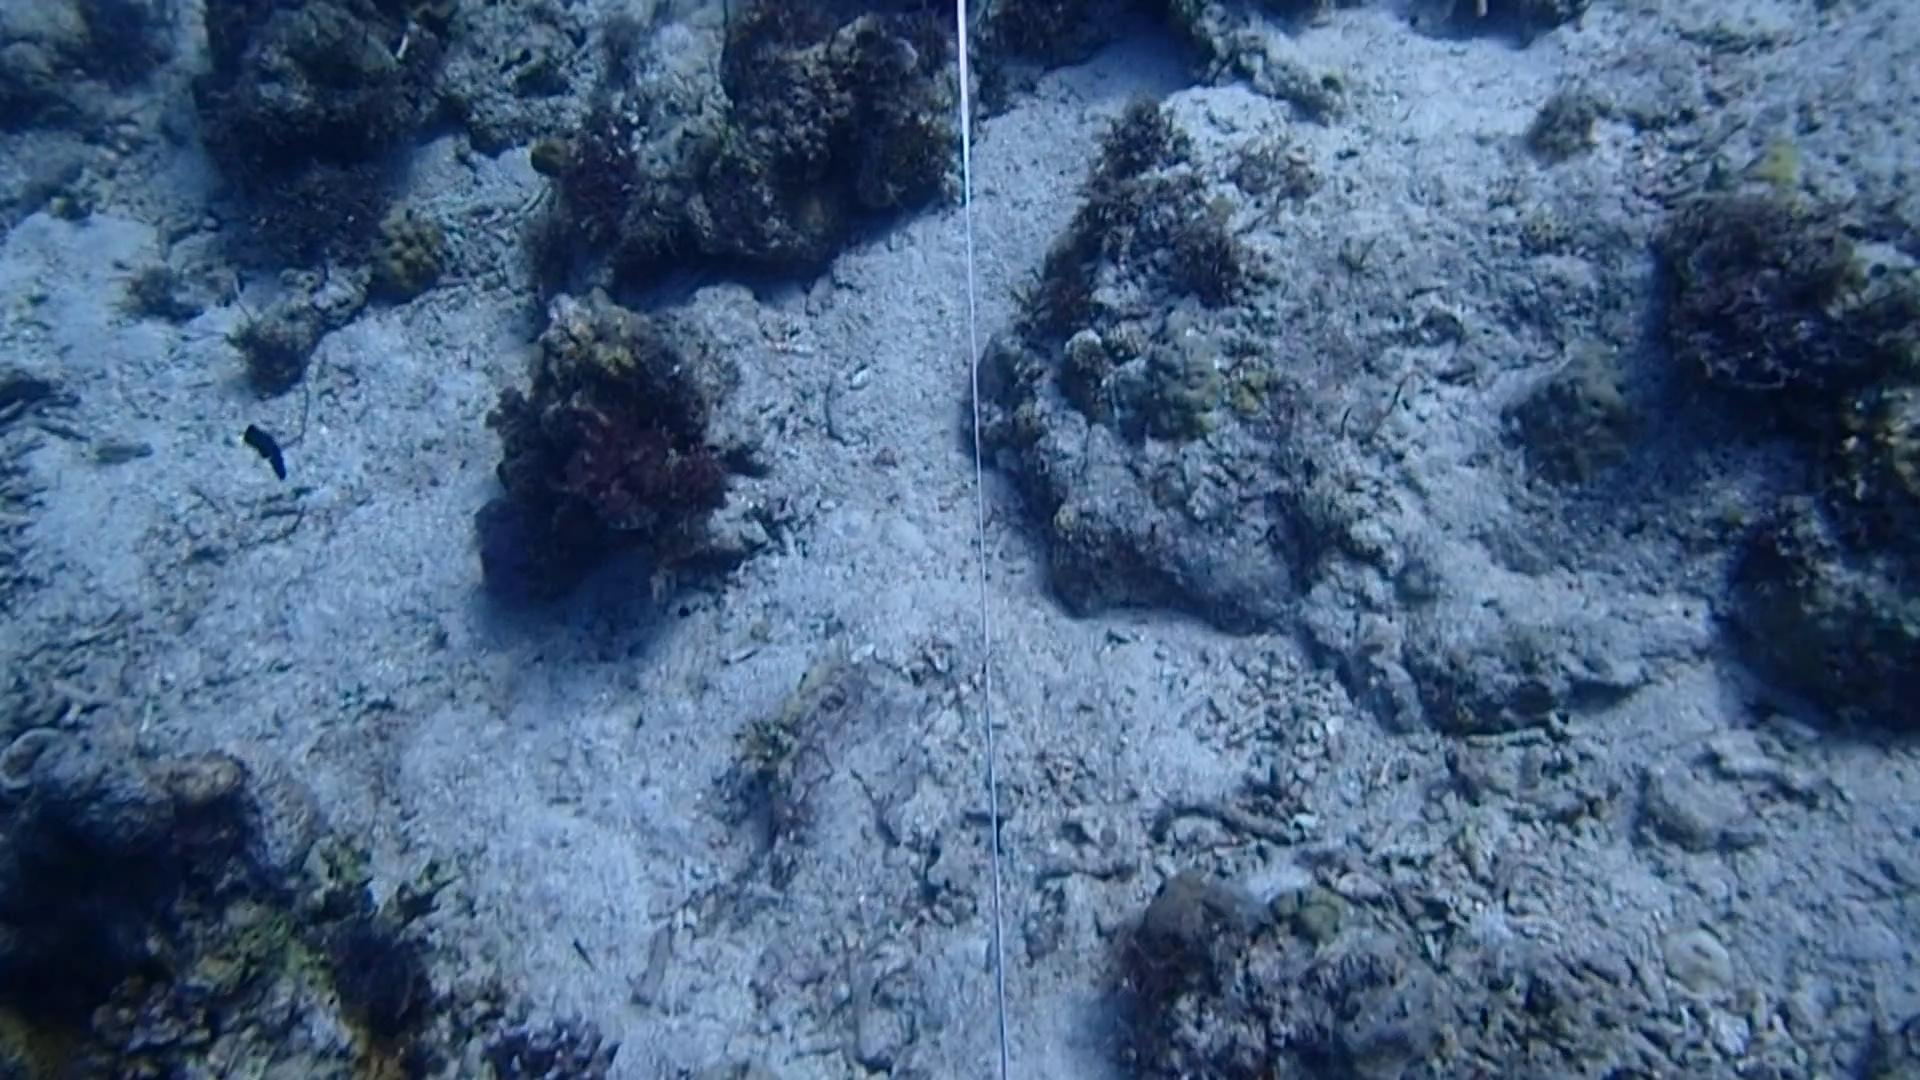Dark Fish: (236, 407, 294, 488)
